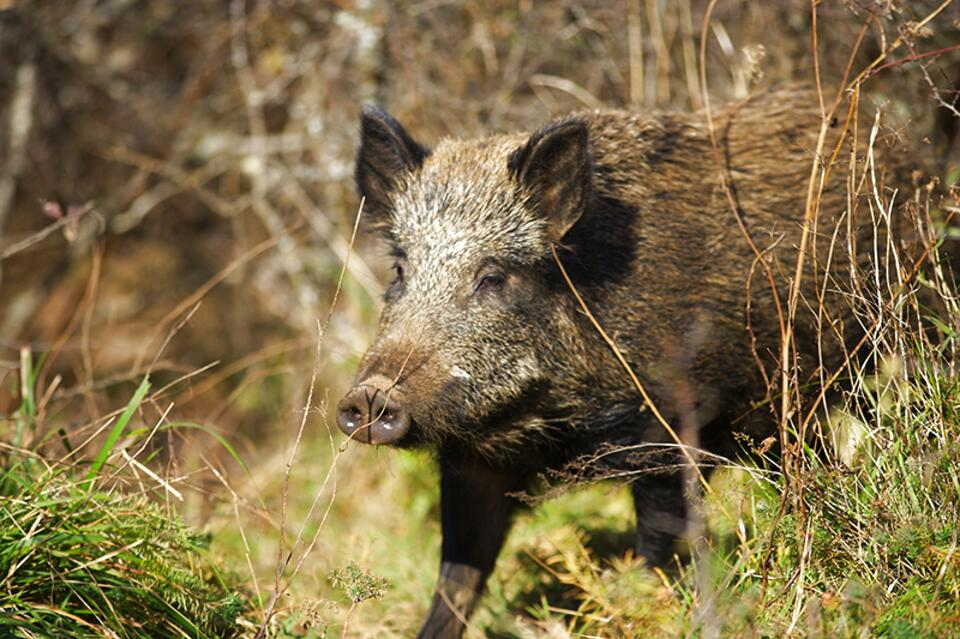wild boar: (317, 87, 960, 639)
